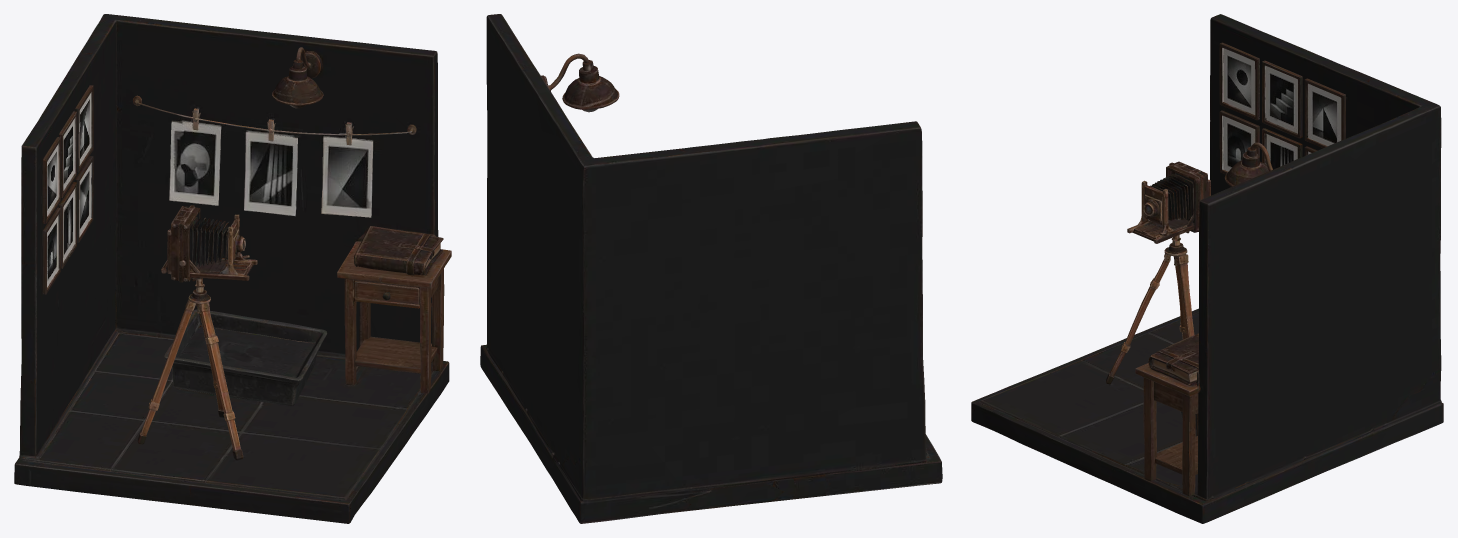
3 renders of one model, left to right at view 1: azimuth 30°, elevation 25°; view 2: azimuth 150°, elevation 25°; view 3: azimuth 270°, elevation 25°, orthographic. The views are drawn at different scales.
Visible parts, largest first — view 1: escala_real; view 2: escala_real; view 3: escala_real.
Part boxes in pixels (box(x1,y1,x2,y2)): escala_real: box(14, 14, 451, 523); escala_real: box(480, 14, 942, 523); escala_real: box(971, 14, 1443, 523).
Size of the model in its own units: 3.2 by 2.42 by 3.18.
1 material, 1 textured.
